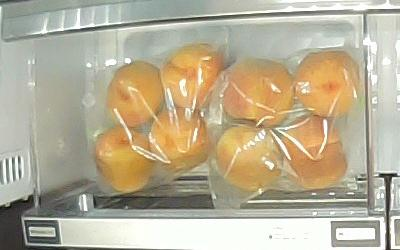peach_vinyl: (221, 57, 294, 126), (281, 115, 346, 191), (214, 125, 283, 190), (295, 49, 359, 118), (91, 126, 154, 192), (148, 104, 210, 171), (160, 45, 225, 107), (106, 61, 163, 127)
